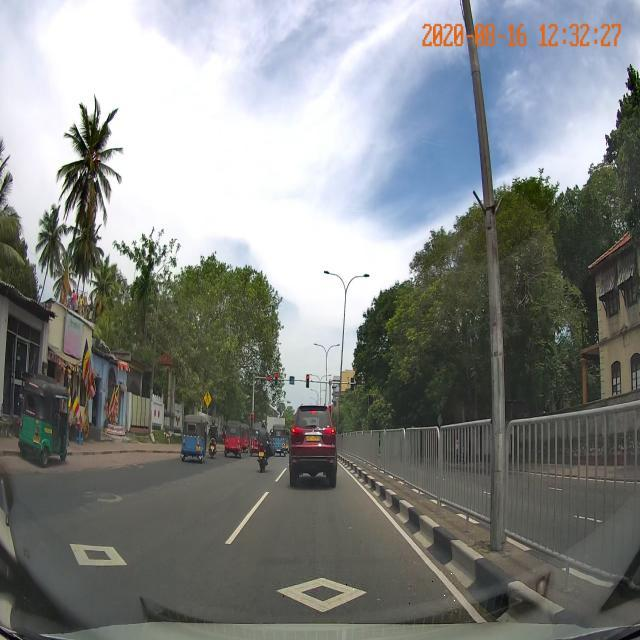diamond: (183, 572, 475, 613)
